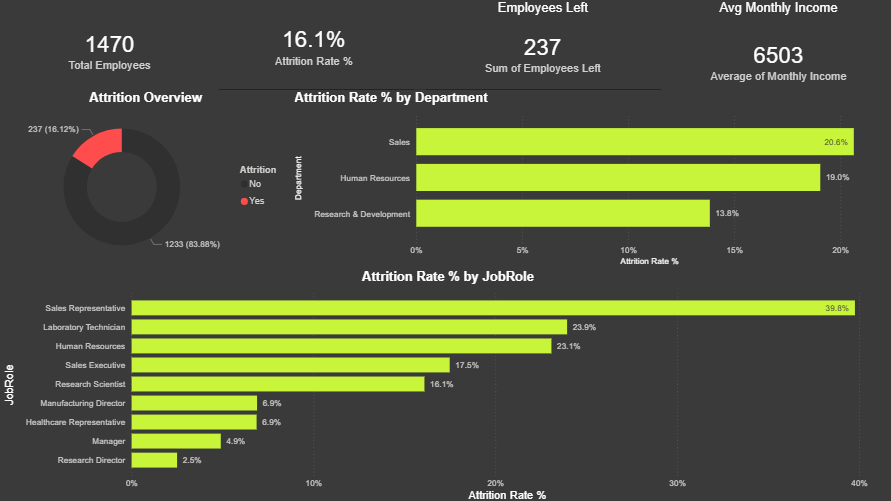

Layout of this report page (visuals, bound fields, positions):
{"tool":"powerbi","page":{"name":"Overview","canvas":[1280,720],"ordinal":0},"visuals":[{"type":"card","fields":{"Values":["CountNonNull(hr_attrition_cleaned.Age)"]},"box":[0,0,313.3,141.5],"z":0},{"type":"card","fields":{"Values":["hr_attrition_cleaned.Attrition Rate"]},"box":[288,0,320,128],"z":1000},{"type":"card","title":"Employees Left","fields":{"Values":["Sum(hr_attrition_cleaned.AttritionBinary)"]},"box":[592,0,368,128],"z":2000},{"type":"card","title":"Avg Monthly Income","fields":{"Values":["Avg(hr_attrition_cleaned.MonthlyIncome)"]},"box":[944.2,0,335.8,151.4],"z":3000},{"type":"donutChart","title":"Attrition Overview","fields":{"Category":["hr_attrition_cleaned.Attrition"],"Y":["CountNonNull(hr_attrition_cleaned.AttritionBinary)"]},"box":[0,128,416,256],"z":4000},{"type":"clusteredBarChart","fields":{"Category":["hr_attrition_cleaned.Department"],"Y":["hr_attrition_cleaned.Attrition Rate"]},"box":[416,128,864,256],"z":5000},{"type":"clusteredBarChart","fields":{"Category":["hr_attrition_cleaned.JobRole"],"Y":["hr_attrition_cleaned.Attrition Rate"]},"box":[0,384,1280,336],"z":6000}]}

Visuals, with their boxes in screenshot pixels (x1, y1, x2, y2), scaled from the page's 1280x720 canvas onto the 891x501 screenshot:
card - CountNonNull(hr_attrition_cleaned.Age): [0,0,218,98]
card - hr_attrition_cleaned.Attrition Rate: [200,0,423,89]
"Employees Left" card: [412,0,668,89]
"Avg Monthly Income" card: [657,0,890,105]
"Attrition Overview" donutChart: [0,89,290,267]
clusteredBarChart - hr_attrition_cleaned.Department x hr_attrition_cleaned.Attrition Rate: [290,89,890,267]
clusteredBarChart - hr_attrition_cleaned.JobRole x hr_attrition_cleaned.Attrition Rate: [0,267,890,500]
